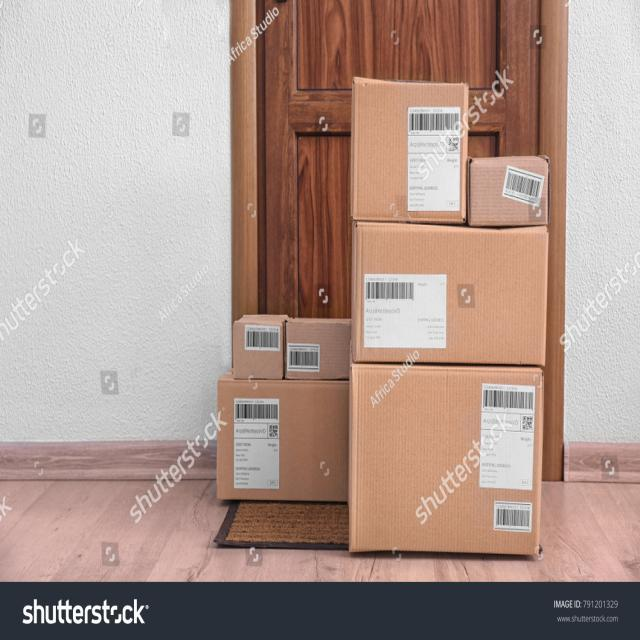BoxFace: (348, 366, 544, 558), (354, 222, 548, 363), (352, 82, 468, 225), (216, 380, 348, 500), (467, 156, 548, 228), (286, 320, 351, 380), (234, 318, 284, 379)
